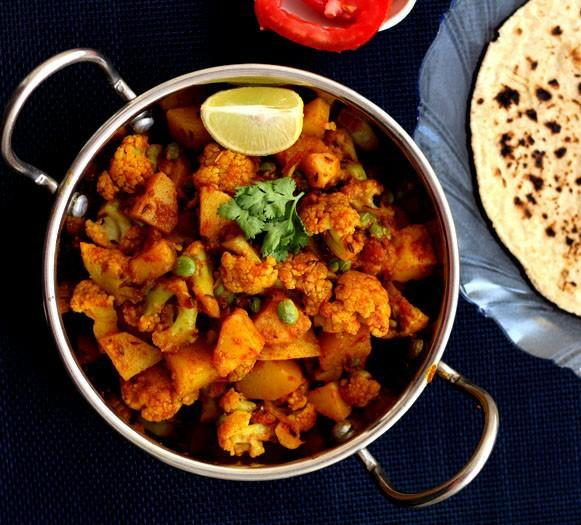AlooGobi: (74, 98, 435, 458)
